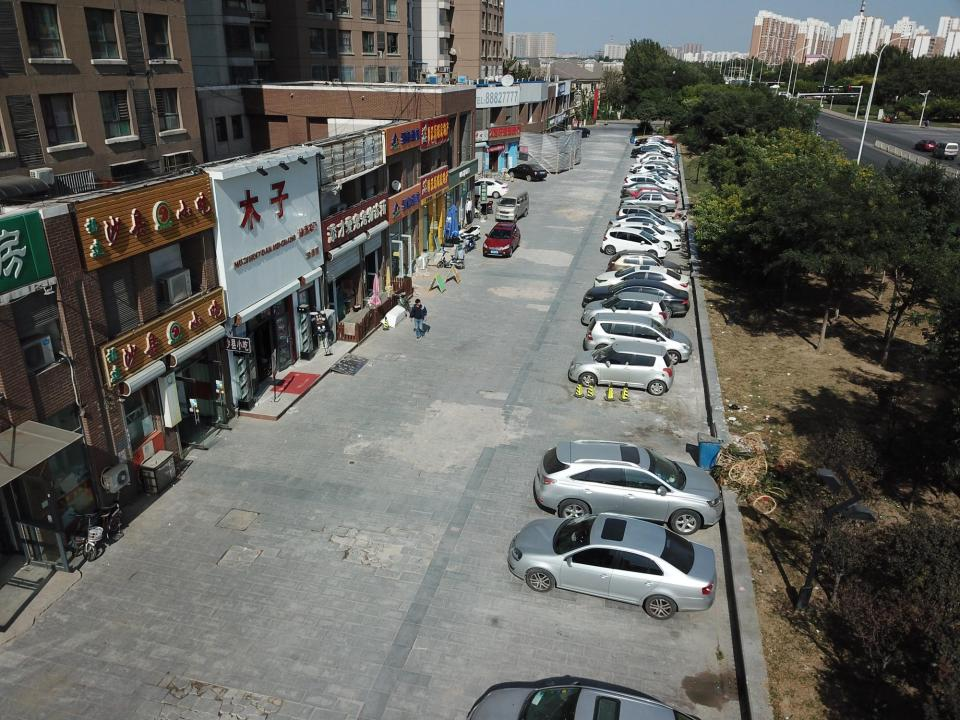car: (507, 512, 716, 620), (535, 439, 722, 535), (465, 681, 700, 720), (568, 341, 674, 395), (585, 313, 693, 365), (582, 279, 690, 319), (582, 291, 668, 329), (594, 266, 689, 296), (608, 249, 682, 278), (601, 227, 668, 258), (608, 222, 681, 250), (607, 213, 681, 239), (482, 222, 520, 257), (620, 192, 677, 213), (616, 205, 670, 227), (622, 174, 675, 195), (621, 182, 677, 200), (460, 178, 509, 198), (628, 187, 679, 205), (630, 173, 678, 191), (635, 164, 679, 181), (508, 164, 547, 182), (634, 169, 680, 184), (630, 159, 674, 173), (632, 161, 676, 174), (639, 154, 677, 169), (631, 145, 672, 158), (636, 143, 674, 157), (635, 152, 675, 164), (639, 138, 675, 150), (796, 125, 822, 140), (638, 142, 675, 152), (635, 136, 671, 146), (567, 127, 590, 141), (646, 138, 676, 148), (776, 92, 792, 97), (812, 94, 826, 98), (770, 84, 780, 89), (796, 94, 807, 98), (724, 80, 728, 84), (724, 77, 728, 80)
van: (495, 189, 529, 223), (932, 142, 958, 160), (914, 139, 938, 151), (737, 77, 745, 81), (728, 77, 736, 81)
